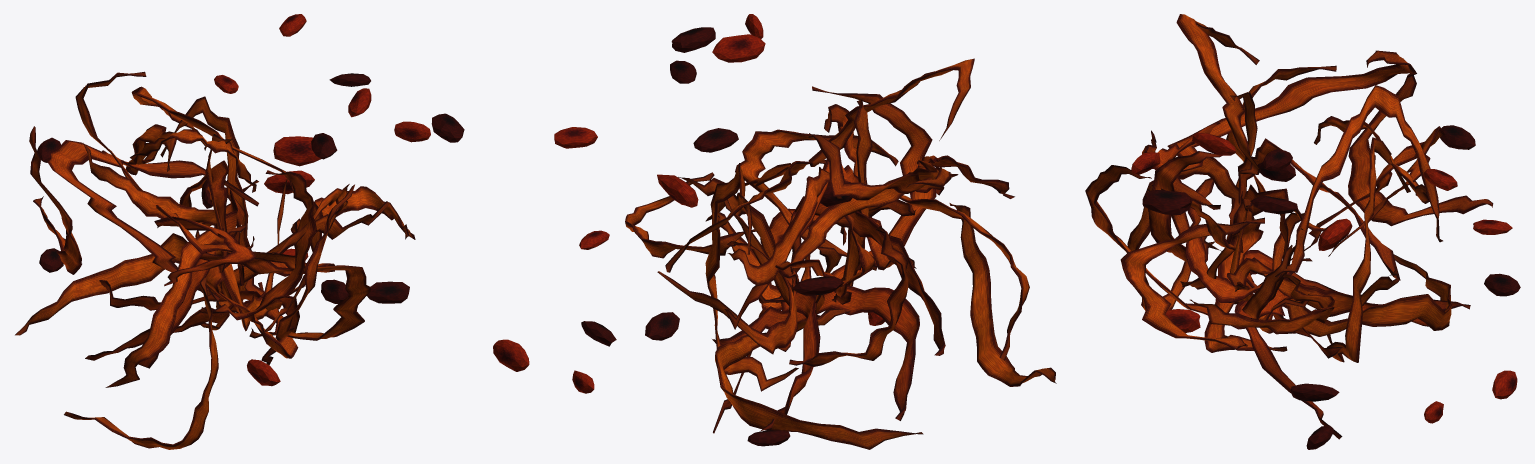
The model's file is fried-onion-spirals.glb.
The picture shows the model from 3 angles, left to right: view 1: azimuth 30°, elevation 25°; view 2: azimuth 150°, elevation 25°; view 3: azimuth 270°, elevation 25°; orthographic projection. The views are drawn at different scales.
Visible parts, largest first — view 1: helical-onion-coils; view 2: helical-onion-coils; view 3: helical-onion-coils.
Part boxes in pixels (bbox=[...]): helical-onion-coils: bbox=[15, 14, 464, 449]; helical-onion-coils: bbox=[493, 14, 1056, 449]; helical-onion-coils: bbox=[1085, 14, 1520, 449].
Size of the model in its own units: 0.0984 by 0.0795 by 0.0915.
Materials: 1 (1 with a texture image).
